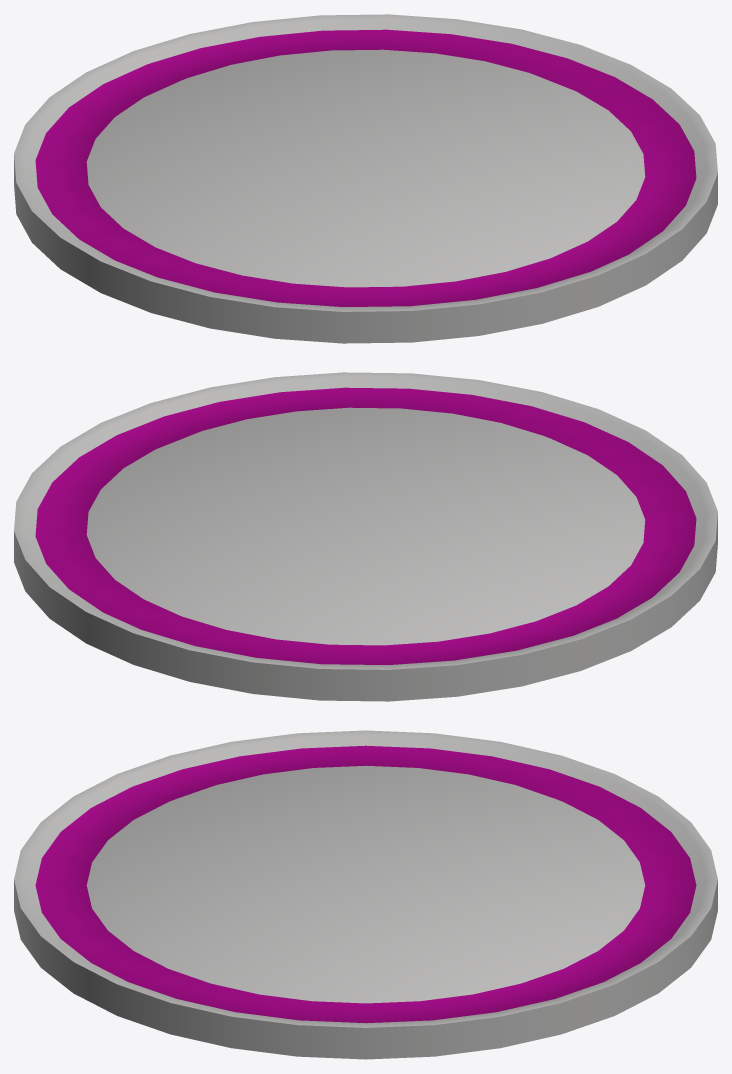
File: MaskPickupBase.fbx
3 views of the same model, one above another, from view 1: azimuth 30°, elevation 25°; view 2: azimuth 150°, elevation 25°; view 3: azimuth 270°, elevation 25° (orthographic).
Parts seen in each view (by area): view 1: Cylinder; view 2: Cylinder; view 3: Cylinder.
Part boxes in pixels (x1,y1,x2,y2): Cylinder: [14, 14, 717, 343]; Cylinder: [14, 372, 717, 701]; Cylinder: [14, 730, 717, 1059].
Size of the model in its own units: 1.26 by 0.0623 by 1.26.
